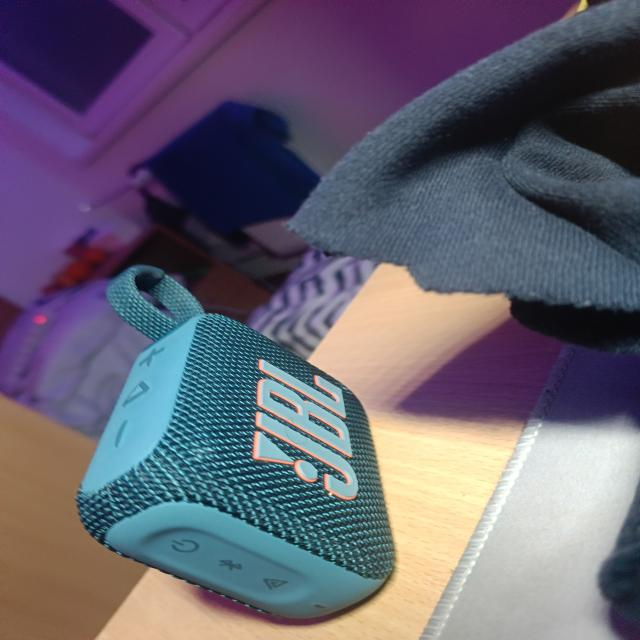column JBL: (73, 261, 400, 626)
